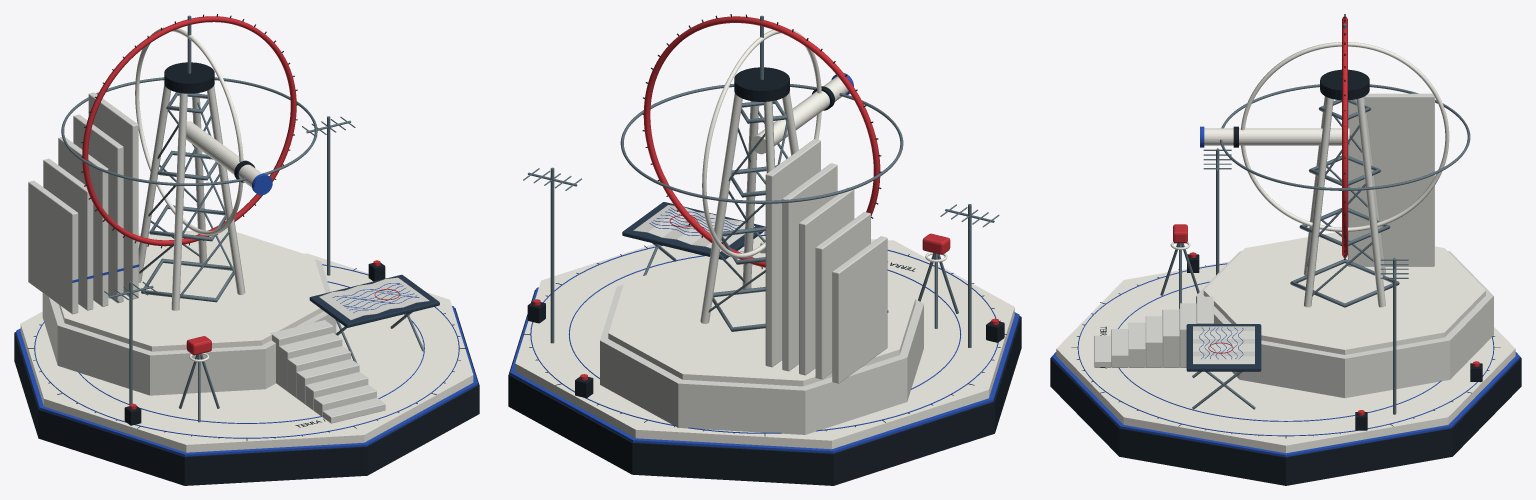
The model's file is terra-observatory.glb.
3 views of the same model, side by side, from view 1: azimuth 30°, elevation 25°; view 2: azimuth 150°, elevation 25°; view 3: azimuth 270°, elevation 25° (orthographic). The views are drawn at different scales.
Parts seen in each view (by area): view 1: Terraces, Archive_Fins, Foundation, Instrument_Tower, Armillary, Stairway, Chart, Telescope, Map_Table, Antenna, Survey_Grid, Survey_Tripod (+1 smaller); view 2: Terraces, Archive_Fins, Foundation, Instrument_Tower, Armillary, Antenna, Chart, Survey_Grid, Telescope, Map_Table, Survey_Tripod, Survey_Markers; view 3: Terraces, Foundation, Archive_Fins, Instrument_Tower, Armillary, Stairway, Telescope, Chart, Map_Table, Survey_Grid, Antenna, Survey_Tripod (+1 smaller).
Part boxes in pixels (bbox=[...]): Terraces: bbox=[20, 229, 473, 452]; Archive_Fins: bbox=[28, 92, 139, 314]; Foundation: bbox=[14, 306, 479, 485]; Instrument_Tower: bbox=[138, 62, 245, 310]; Armillary: bbox=[61, 14, 317, 248]; Stairway: bbox=[270, 320, 385, 423]; Chart: bbox=[319, 277, 429, 319]; Telescope: bbox=[186, 121, 272, 195]; Map_Table: bbox=[309, 274, 439, 363]; Antenna: bbox=[104, 15, 355, 405]; Survey_Grid: bbox=[27, 264, 466, 440]; Survey_Tripod: bbox=[179, 336, 219, 422]; Terraces: bbox=[515, 233, 1014, 449]; Archive_Fins: bbox=[765, 139, 888, 383]; Foundation: bbox=[508, 287, 1021, 485]; Instrument_Tower: bbox=[700, 67, 798, 331]; Armillary: bbox=[620, 14, 903, 268]; Antenna: bbox=[523, 15, 999, 347]; Chart: bbox=[633, 205, 755, 251]; Survey_Grid: bbox=[523, 232, 1006, 436]; Telescope: bbox=[751, 72, 853, 154]; Map_Table: bbox=[622, 202, 764, 275]; Survey_Tripod: bbox=[918, 233, 958, 328]; Survey_Markers: bbox=[527, 299, 1004, 398]; Terraces: bbox=[1056, 232, 1515, 453]; Foundation: bbox=[1050, 352, 1521, 485]; Archive_Fins: bbox=[1348, 93, 1434, 266]; Instrument_Tower: bbox=[1290, 69, 1399, 307]; Armillary: bbox=[1220, 14, 1470, 259]; Stairway: bbox=[1094, 296, 1213, 367]; Telescope: bbox=[1200, 126, 1349, 147]; Chart: bbox=[1193, 326, 1254, 364]; Map_Table: bbox=[1186, 324, 1261, 409]; Survey_Grid: bbox=[1071, 263, 1500, 438]; Antenna: bbox=[1203, 24, 1408, 414]; Survey_Tripod: bbox=[1160, 224, 1199, 308].
Bounding box in the file's own units: 15.2 × 12.4 × 15.2.
